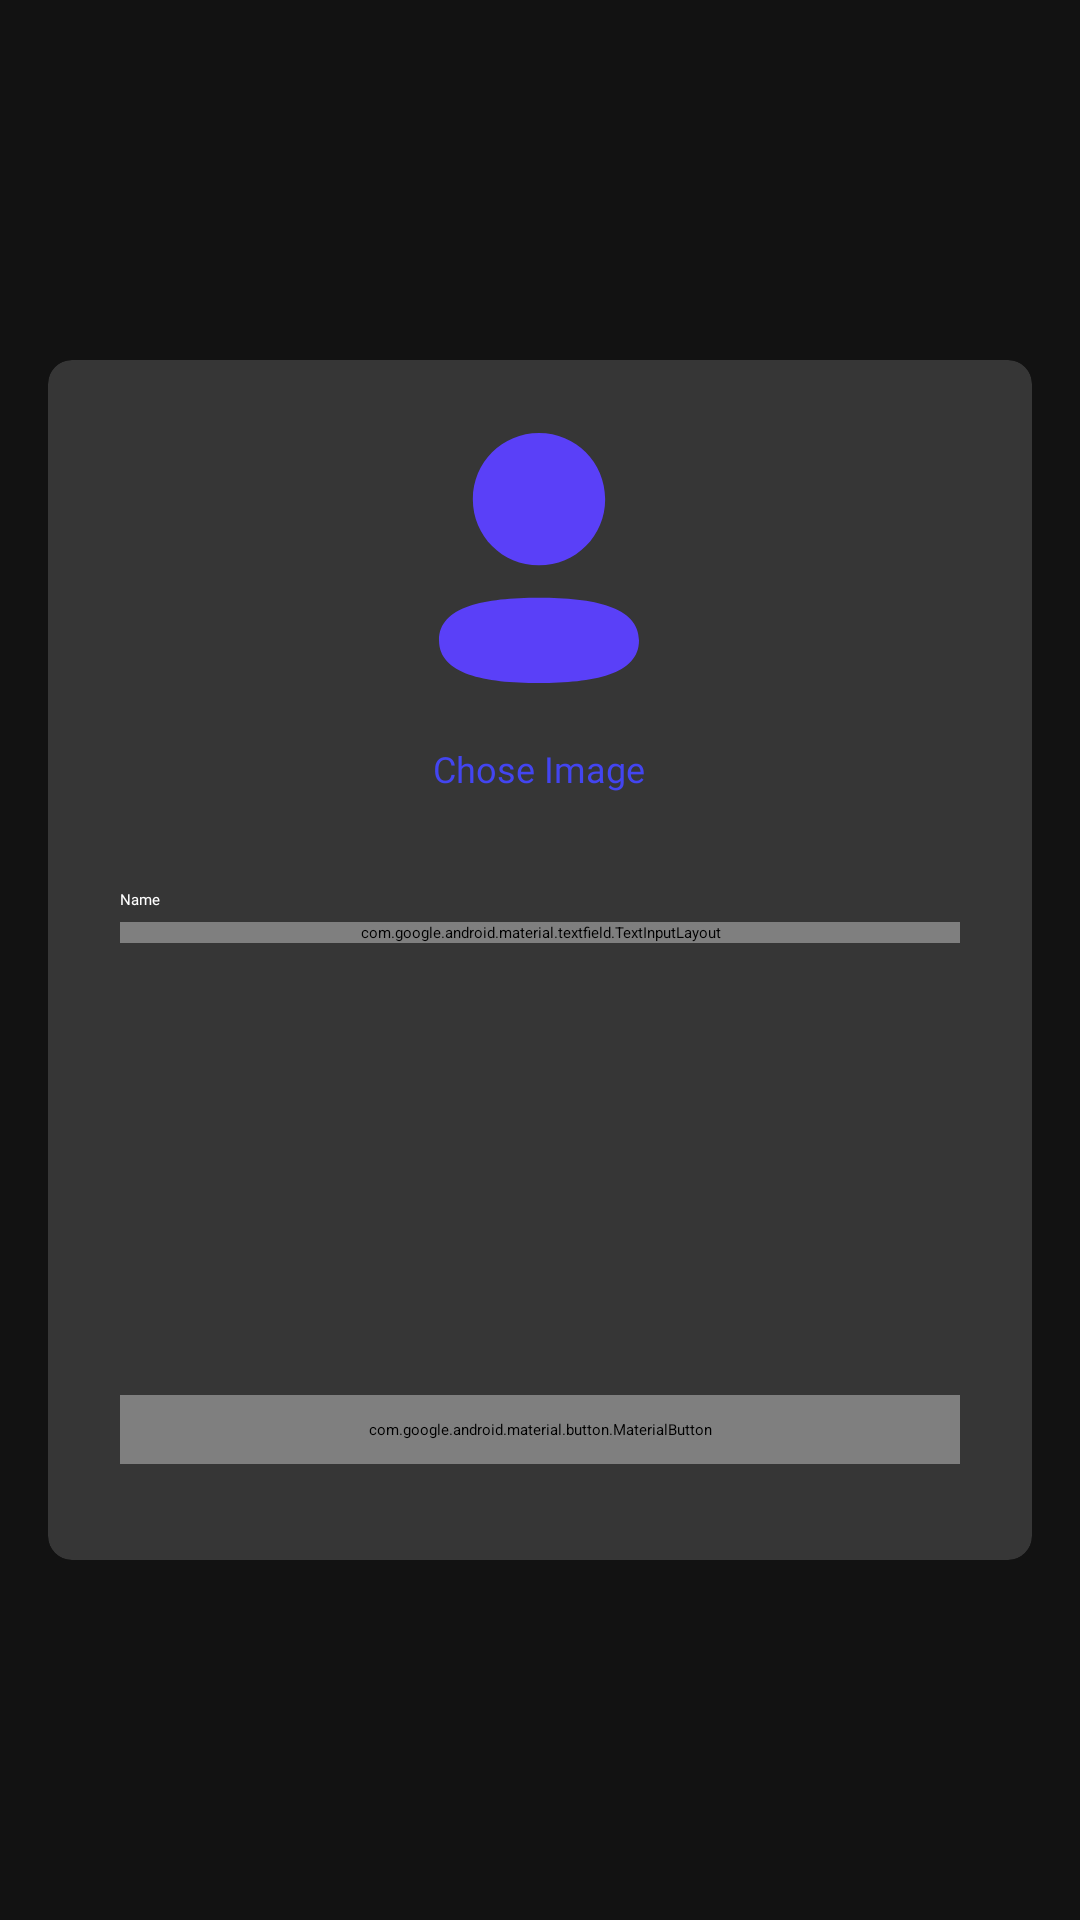

Locate icon controls on the screen. Image size 1080*1920, boxes as (x1, y1, x2, y2).
profile: (439, 433, 639, 683)
